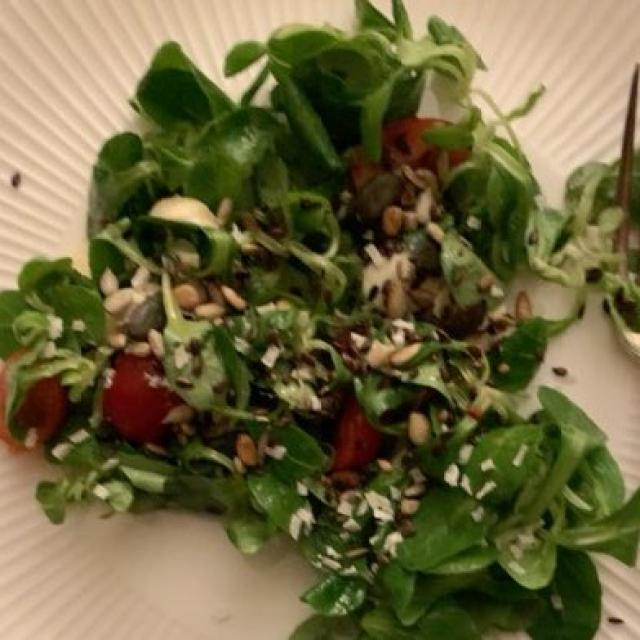salad: (6, 19, 602, 620)
tomato: (25, 130, 463, 464)
